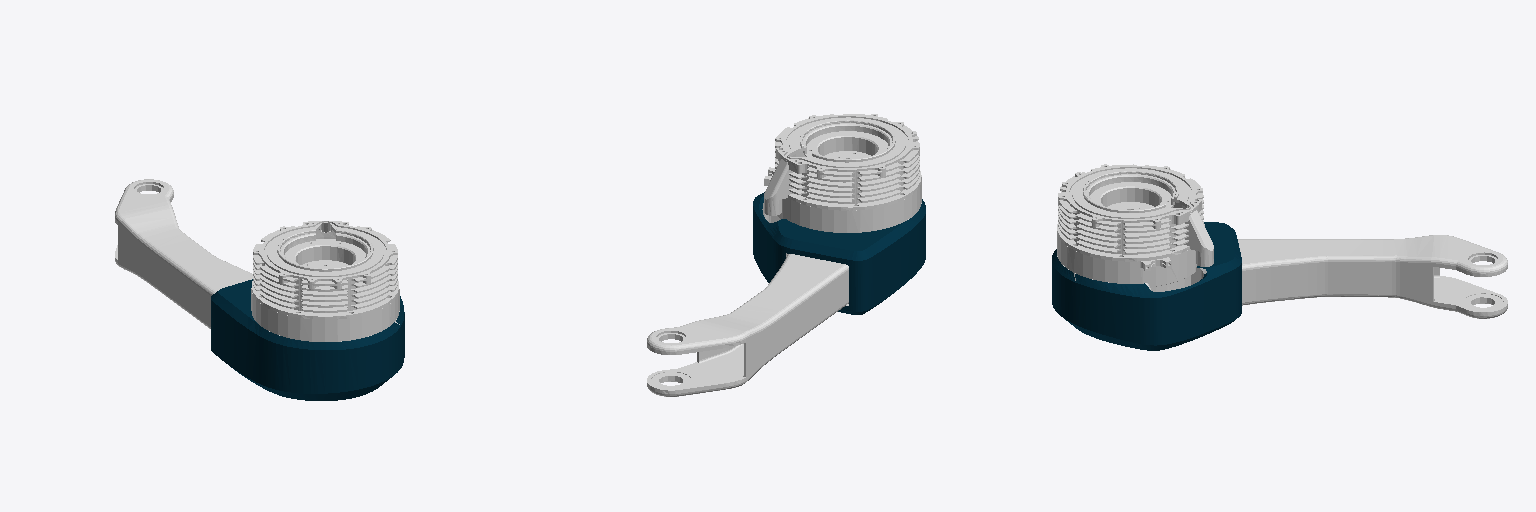
Rendered from r_thigh.obj.
3 views of the same model, side by side, from view 1: azimuth 30°, elevation 25°; view 2: azimuth 150°, elevation 25°; view 3: azimuth 270°, elevation 25° (orthographic).
Parts seen in each view (by area): view 1: hl_thigh; view 2: hl_thigh; view 3: hl_thigh.
Boxes of the visible parts, x1=… form: hl_thigh: x1=115, y1=179, x2=404, y2=400; hl_thigh: x1=647, y1=114, x2=925, y2=396; hl_thigh: x1=1052, y1=164, x2=1507, y2=350.
Bounding box in the file's own units: 0.1479 × 0.1185 × 0.3883.